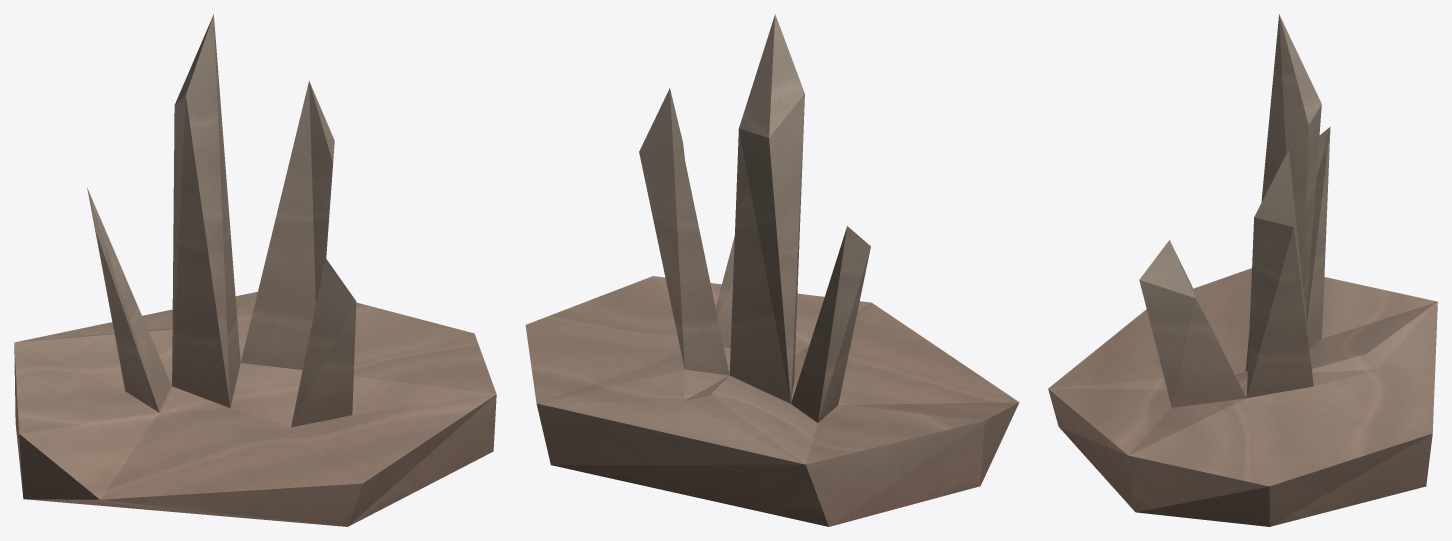
Rendered from crystal_quartz_spray_LOD1.glb.
3 renders of one model, left to right at view 1: azimuth 30°, elevation 25°; view 2: azimuth 150°, elevation 25°; view 3: azimuth 270°, elevation 25°, orthographic. The views are drawn at different scales.
Parts seen in each view (by area): view 1: crystal_quartz_spray_LOD1; view 2: crystal_quartz_spray_LOD1; view 3: crystal_quartz_spray_LOD1.
Part boxes in pixels (x1=…): crystal_quartz_spray_LOD1: x1=14, y1=14, x2=496, y2=526; crystal_quartz_spray_LOD1: x1=525, y1=14, x2=1019, y2=526; crystal_quartz_spray_LOD1: x1=1048, y1=14, x2=1437, y2=526.
Size of the model in its own units: 1.39 by 1.25 by 1.09.
Materials: 1 (1 with a texture image).
